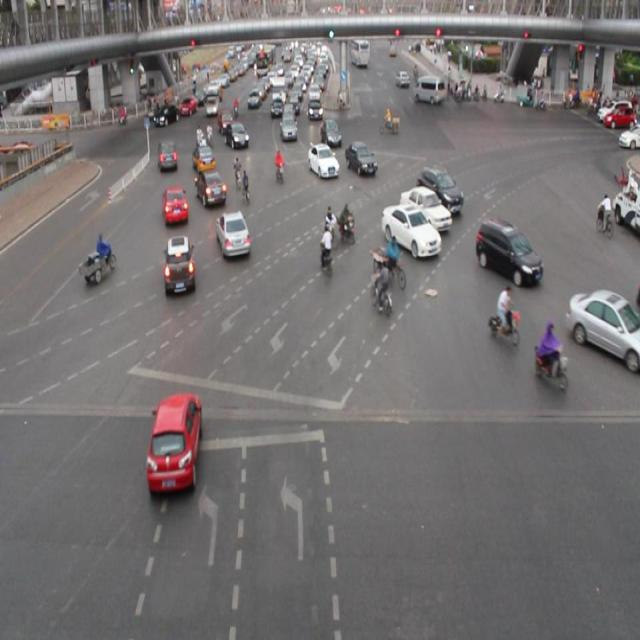car: (148, 392, 204, 490), (568, 289, 640, 360), (474, 220, 541, 281), (382, 203, 439, 257), (416, 161, 461, 215), (400, 184, 451, 231), (163, 233, 196, 297), (216, 210, 250, 258), (344, 140, 377, 180), (306, 143, 339, 178), (196, 170, 226, 208), (162, 185, 189, 225), (192, 142, 217, 176), (157, 137, 179, 172)
